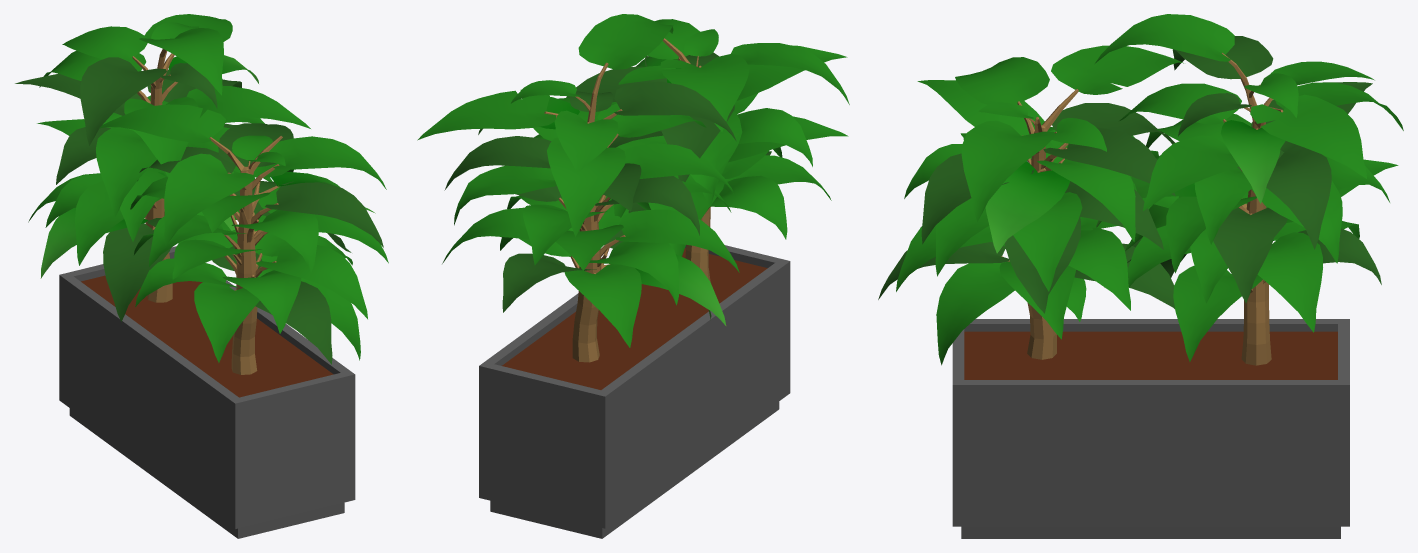
Rendered from 17_10_Model_AIRPORT_0.obj.
The picture shows the model from 3 angles, left to right: view 1: azimuth 30°, elevation 25°; view 2: azimuth 150°, elevation 25°; view 3: azimuth 270°, elevation 25°; orthographic projection. The views are drawn at different scales.
Parts seen in each view (by area): view 1: 17.10.Model_AIRPORT_0; view 2: 17.10.Model_AIRPORT_0; view 3: 17.10.Model_AIRPORT_0.
Boxes of the visible parts, x1,y1,x2,y2 form: 17.10.Model_AIRPORT_0: (15,14,388,538); 17.10.Model_AIRPORT_0: (417,14,849,538); 17.10.Model_AIRPORT_0: (878,14,1403,538).
Bounding box in the file's own units: 1.01 × 1.63 × 1.63.
1 material, 1 textured.
